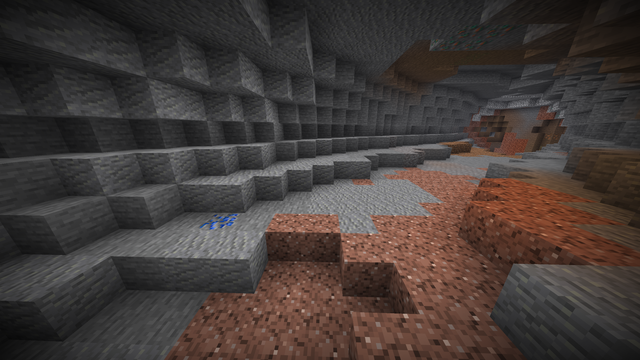copper: (437, 16, 510, 54)
lapis: (199, 209, 239, 232)
